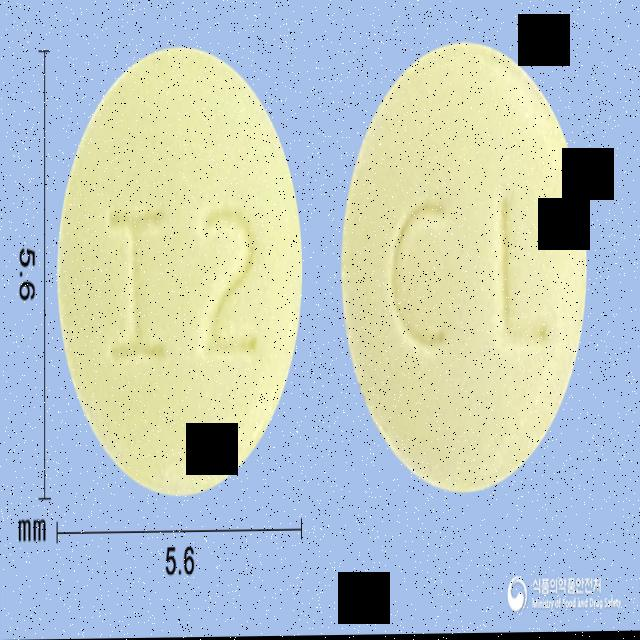Ciprofloxacin Tab- Samsung: (341, 41, 588, 497), (58, 45, 304, 496)
